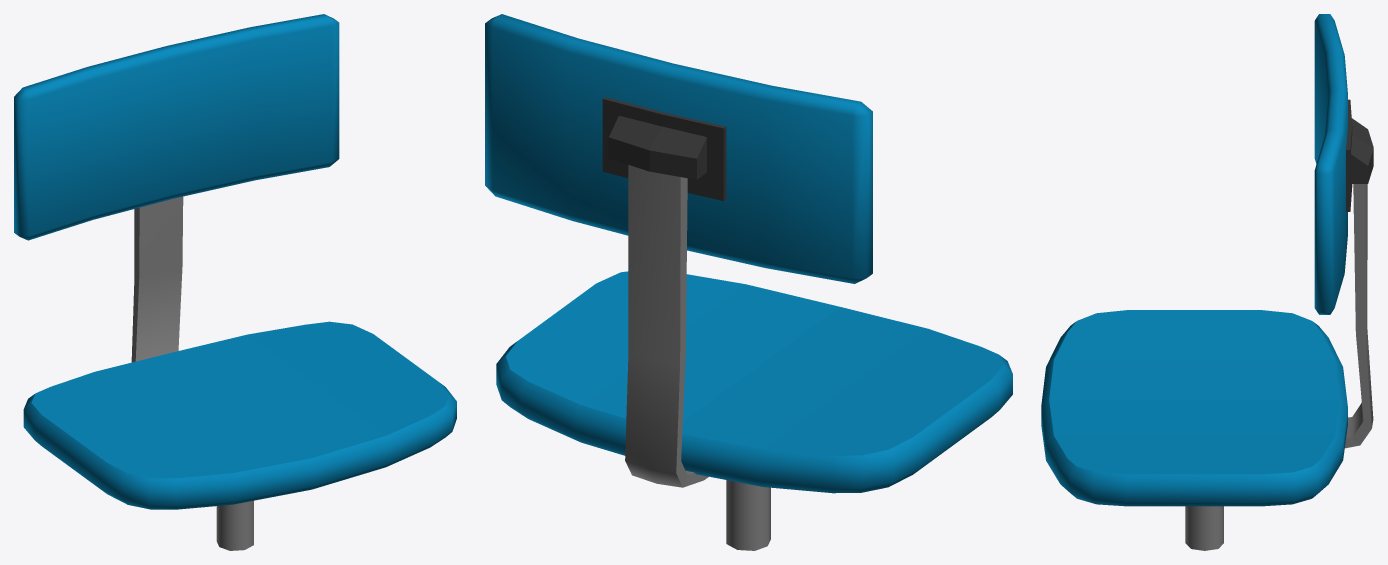
Rendered from office-chair.glb.
3 renders of one model, left to right at view 1: azimuth 30°, elevation 25°; view 2: azimuth 150°, elevation 25°; view 3: azimuth 270°, elevation 25°, orthographic. The views are drawn at different scales.
Visible parts, largest first — view 1: Chair_Office_Base_A; view 2: Chair_Office_Base_A; view 3: Chair_Office_Base_A.
Boxes of the visible parts, x1,y1,x2,y2 form: Chair_Office_Base_A: (14, 14, 456, 550); Chair_Office_Base_A: (485, 14, 1012, 550); Chair_Office_Base_A: (1041, 14, 1373, 550).
Bounding box in the file's own units: 0.5963 × 0.7387 × 0.4902.
1 material, 1 textured.
